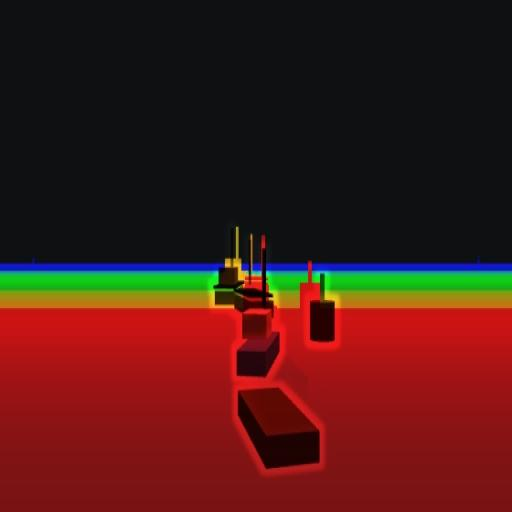debris_container: (236, 383, 322, 469)
fishing_boat: (238, 270, 281, 379)
floating_obstacle: (308, 273, 336, 342)
